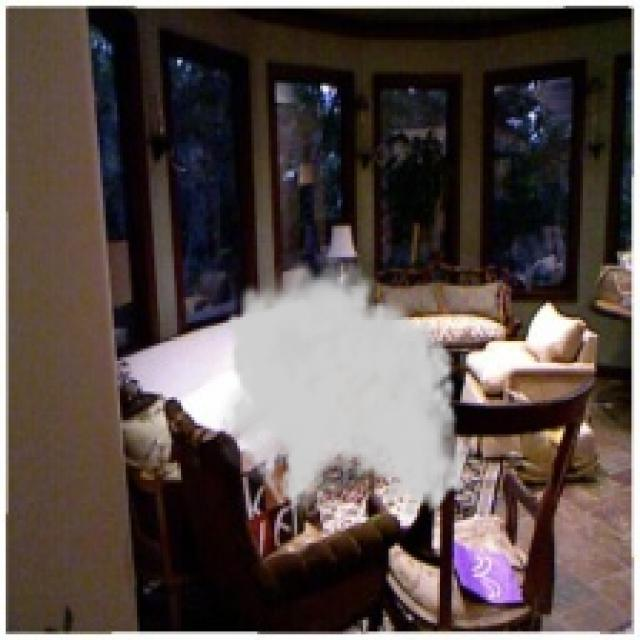smoke: (212, 249, 468, 520)
